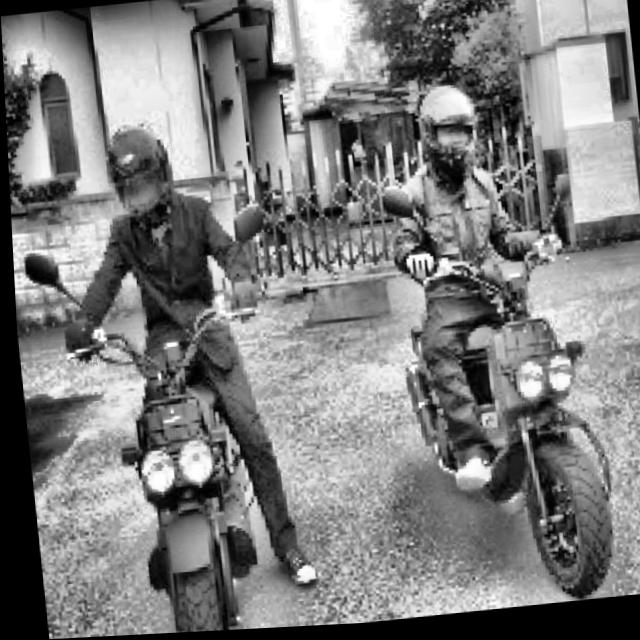motorcycle: (348, 141, 640, 618), (29, 202, 317, 639)
